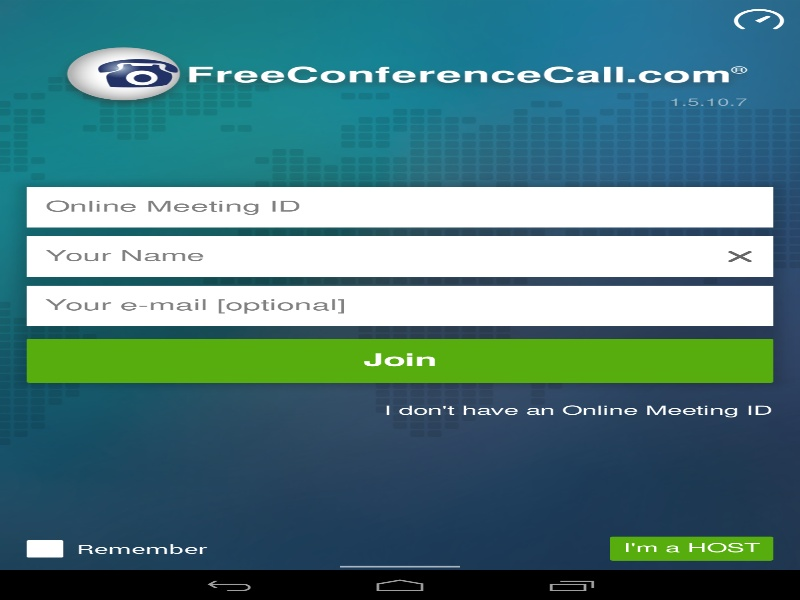Input: (26, 186, 773, 227), (26, 285, 773, 326), (26, 236, 773, 276)
